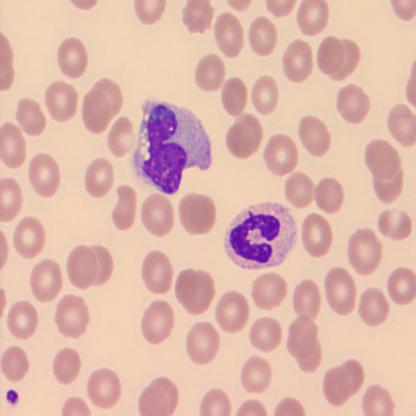Monocyte: (131, 96, 213, 195)
